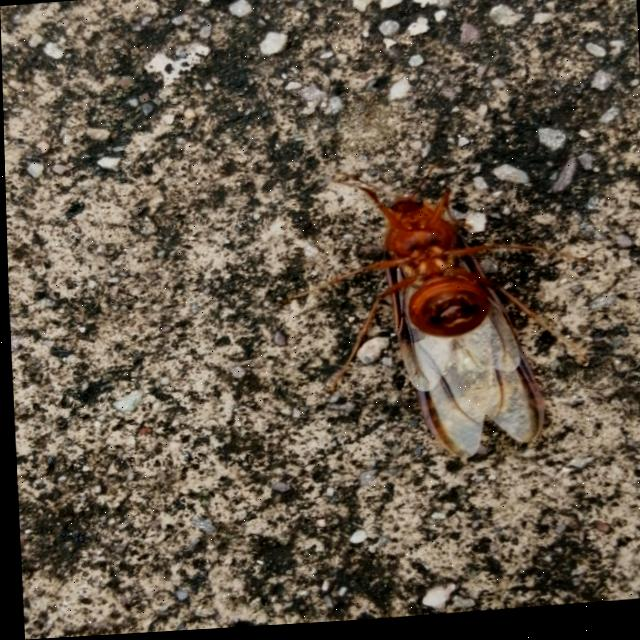Alive-Male-Alate: (271, 156, 594, 476)
